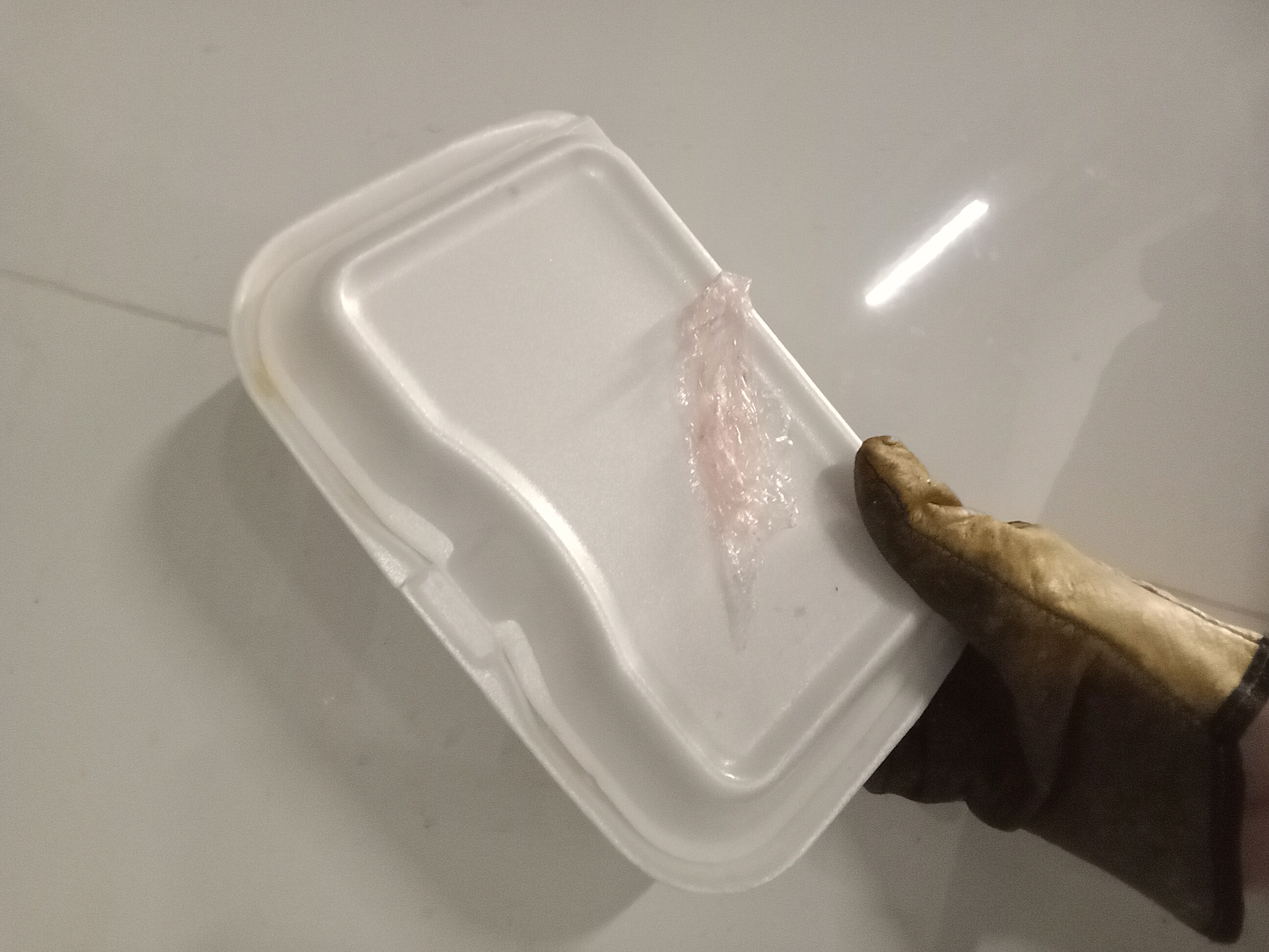Ordinario: (230, 109, 973, 896)
